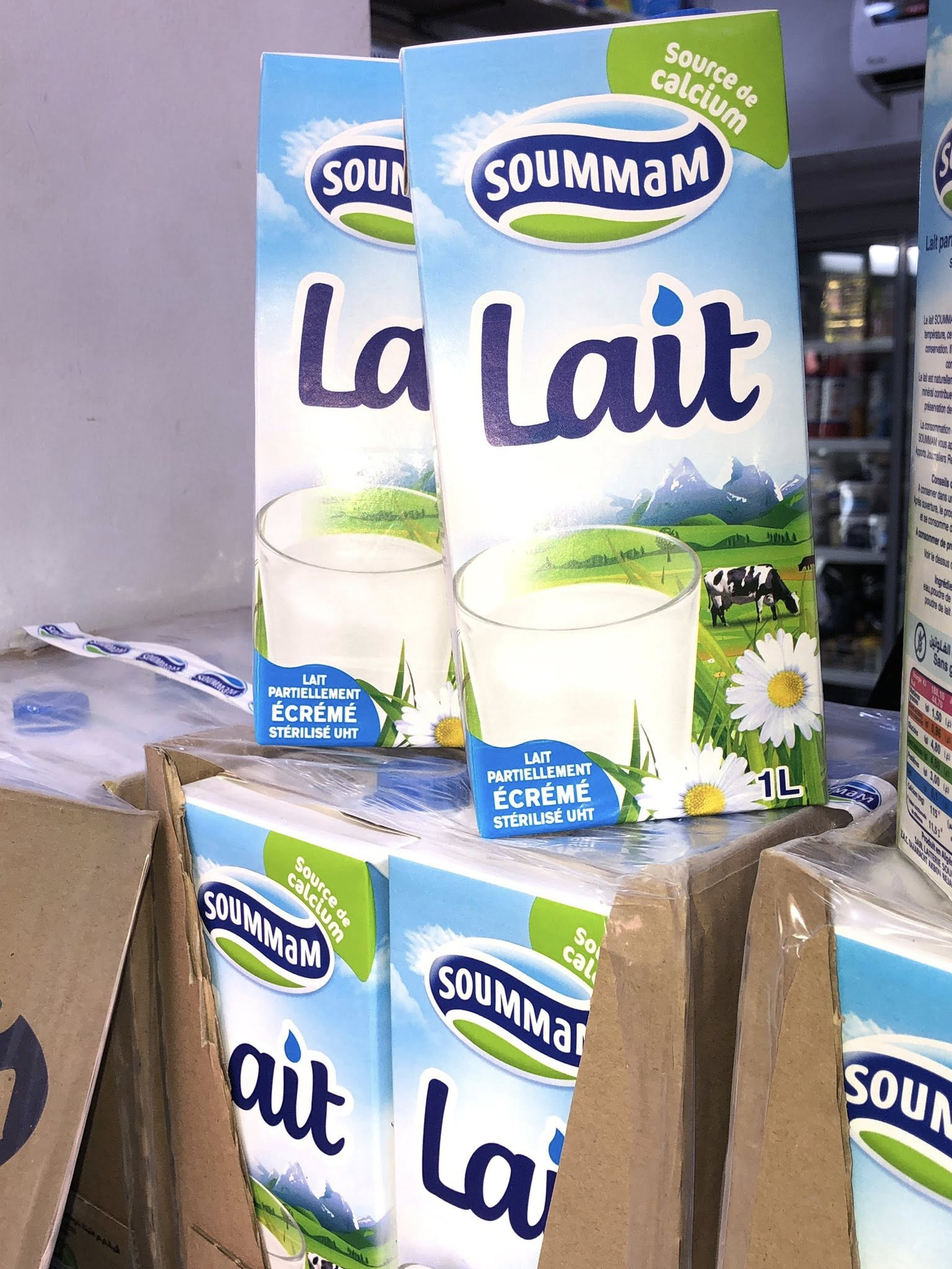soummam_milk: (387, 7, 862, 845), (240, 33, 469, 768), (183, 755, 466, 1269)
